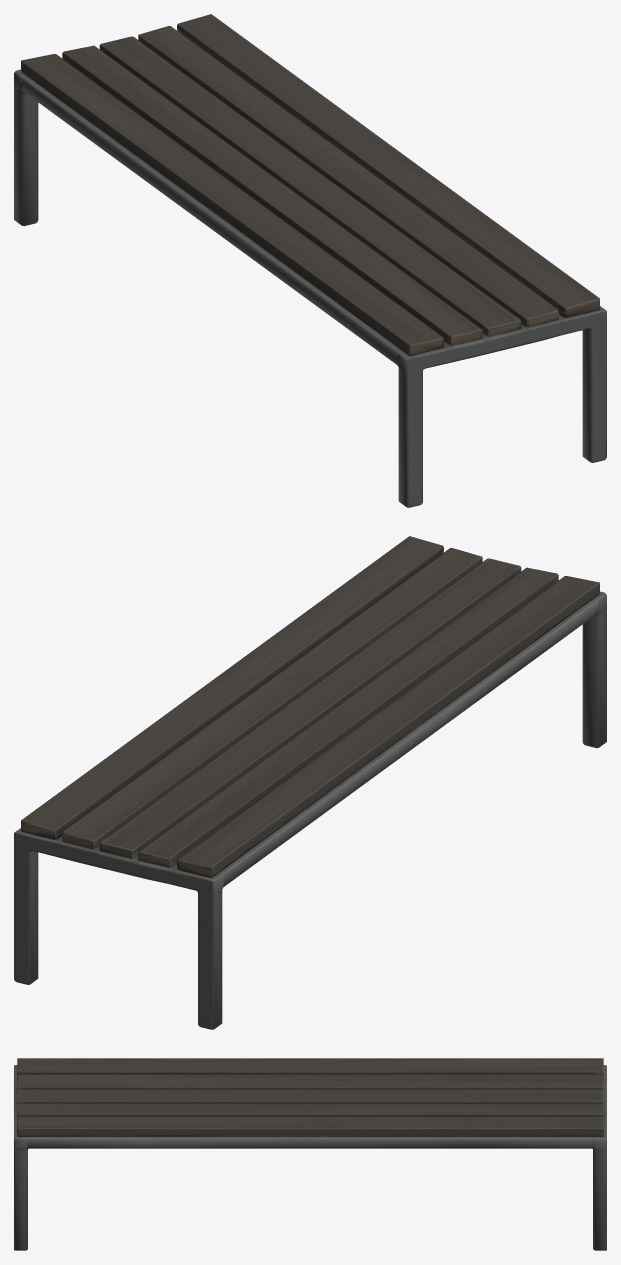
Rendered from PPE_B_Bench.fbx.
3 renders of one model, top to bottom at view 1: azimuth 30°, elevation 25°; view 2: azimuth 150°, elevation 25°; view 3: azimuth 270°, elevation 25°, orthographic. The views are drawn at different scales.
Parts seen in each view (by area): view 1: meshes[0]; view 2: meshes[0]; view 3: meshes[0].
Part boxes in pixels (left/top/right/bottom): meshes[0]: left=14, top=14, right=606, bottom=507; meshes[0]: left=14, top=536, right=606, bottom=1029; meshes[0]: left=14, top=1058, right=606, bottom=1250.
Bounding box in the file's own units: 0.2949 × 0.2246 × 0.998.
